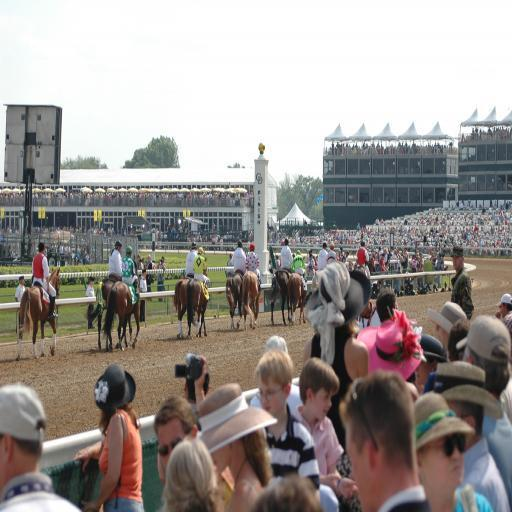horse: (16, 265, 62, 362), (99, 256, 141, 350), (84, 276, 132, 352), (172, 274, 202, 342), (186, 256, 210, 340), (285, 268, 308, 328), (240, 269, 262, 329), (270, 270, 292, 328), (225, 273, 245, 332)
